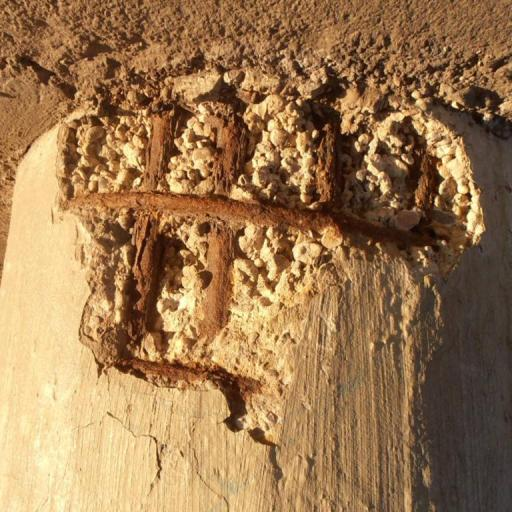spalling: (53, 107, 493, 470)
